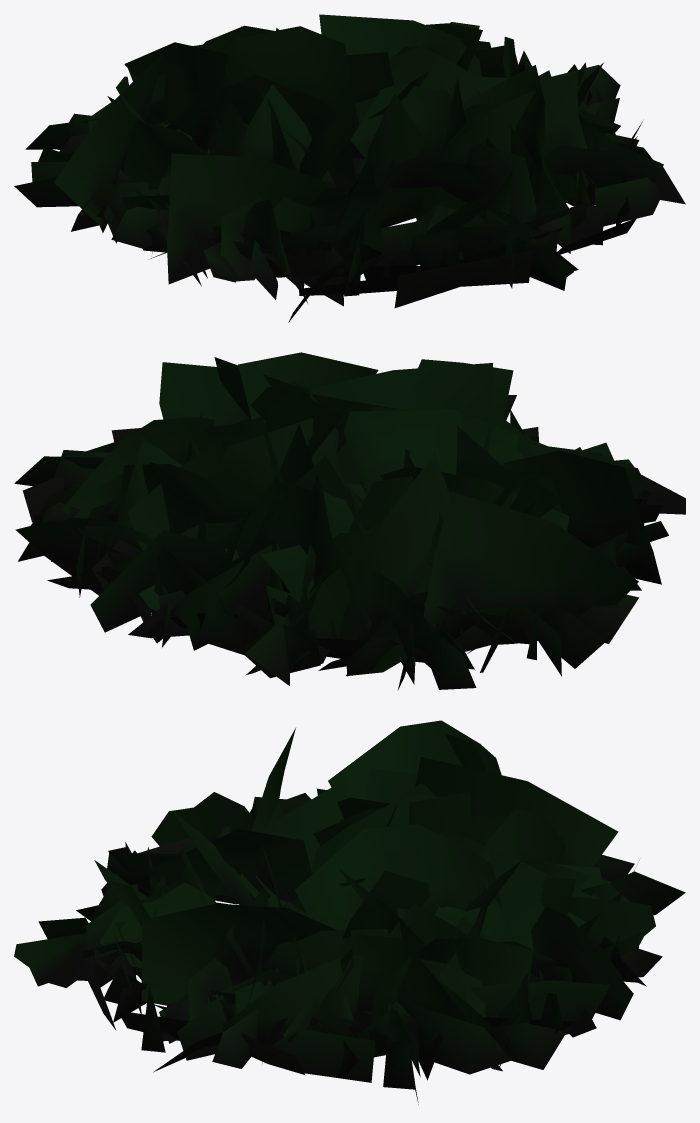
Rendered from GrassMedium_C.fbx.
3 renders of one model, top to bottom at view 1: azimuth 30°, elevation 25°; view 2: azimuth 150°, elevation 25°; view 3: azimuth 270°, elevation 25°, orthographic. The views are drawn at different scales.
Parts seen in each view (by area): view 1: GrassMedium_C_LOD0; view 2: GrassMedium_C_LOD0; view 3: GrassMedium_C_LOD0.
Part boxes in pixels (<box>): GrassMedium_C_LOD0: <box>14,14,685,322</box>; GrassMedium_C_LOD0: <box>14,352,685,690</box>; GrassMedium_C_LOD0: <box>14,720,685,1105</box>.
Size of what is drawn, in the model's own units: 2.41 by 0.6417 by 2.31.
